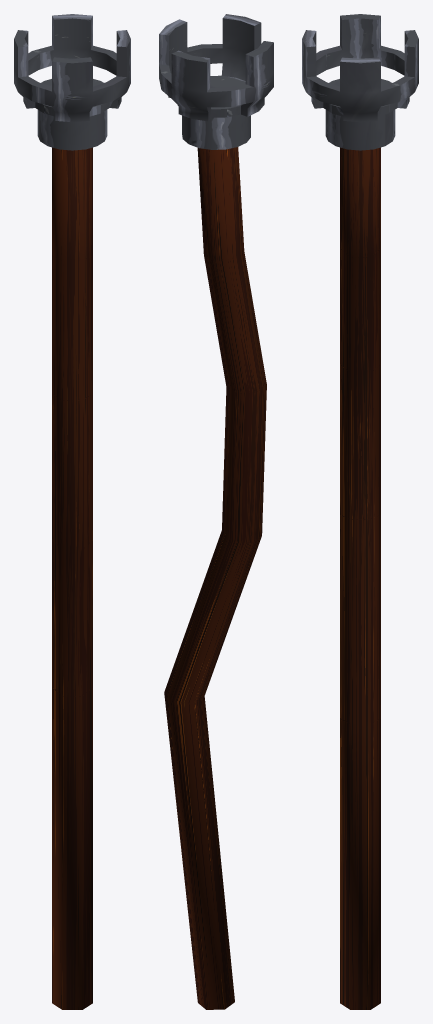
The model's file is antorcha_grande.glb.
3 renders of one model, left to right at view 1: azimuth 90°, elevation 25°; view 2: azimuth 150°, elevation 25°; view 3: azimuth 270°, elevation 25°, orthographic.
Parts seen in each view (by area): view 1: Poste, Soporte; view 2: Poste, Soporte; view 3: Poste, Soporte.
Part boxes in pixels (x1,y1,x2,y2): Poste: [52, 147, 92, 1009]; Soporte: [14, 14, 130, 150]; Poste: [164, 147, 266, 1009]; Soporte: [159, 14, 273, 149]; Poste: [340, 147, 380, 1009]; Soporte: [302, 14, 418, 150].
Bounding box in the file's own units: 0.2449 × 2.23 × 0.2449.
2 materials, 2 textured.
